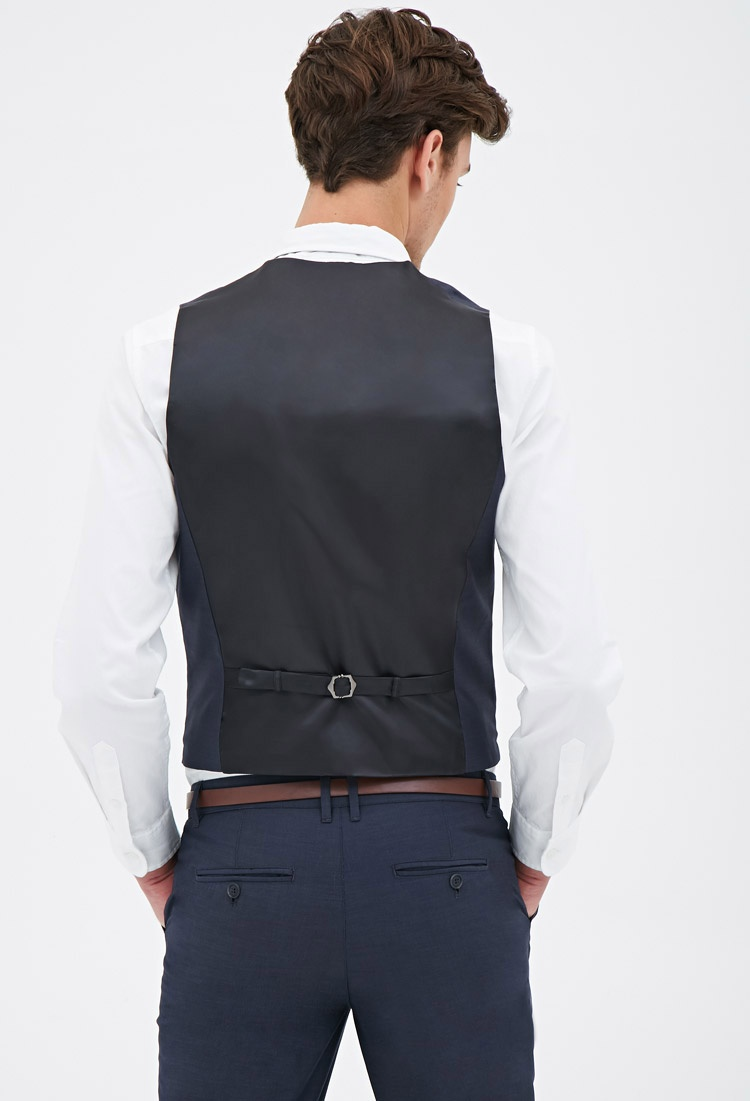F_belt: (173, 761, 516, 811)
F_dress pants: (158, 806, 541, 1088)
F_shirt: (40, 223, 628, 839)
F_waistcoat: (170, 259, 512, 783)
